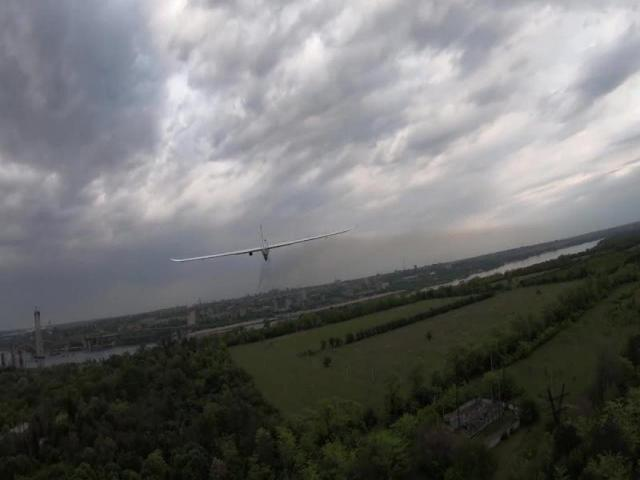hedef: (151, 213, 382, 281)
